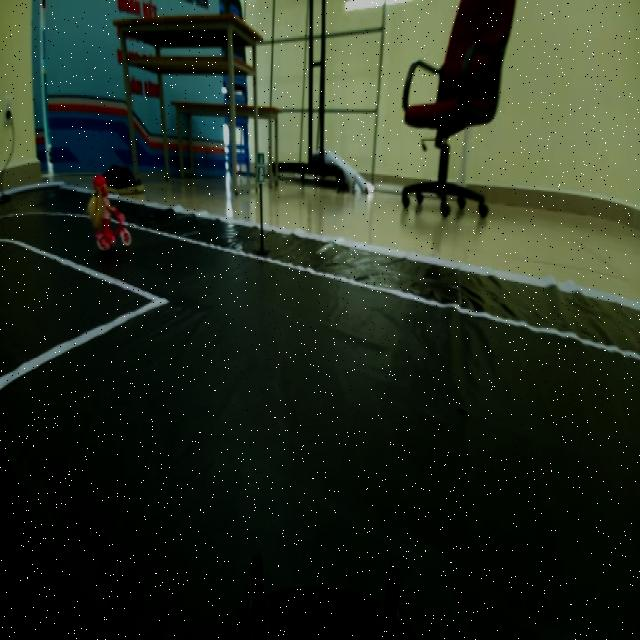pedestrian: (79, 161, 137, 256)
